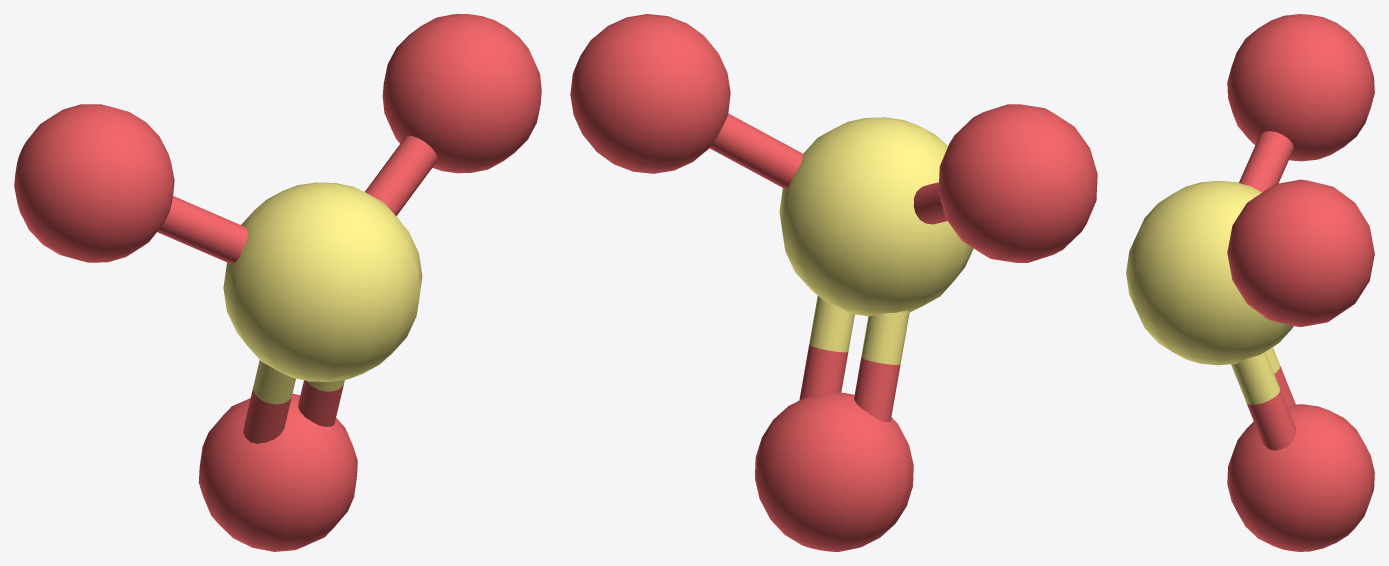
The model's file is 04_Trioxido-de-Azufre.fbx.
3 renders of one model, left to right at view 1: azimuth 30°, elevation 25°; view 2: azimuth 150°, elevation 25°; view 3: azimuth 270°, elevation 25°, orthographic. The views are drawn at different scales.
Visible parts, largest first — view 1: m_trioxidodeA; view 2: m_trioxidodeA; view 3: m_trioxidodeA.
Boxes of the visible parts, <box> form: m_trioxidodeA: <box>14,14,541,551</box>; m_trioxidodeA: <box>570,14,1097,551</box>; m_trioxidodeA: <box>1126,14,1374,551</box>.
Size of the model in its own units: 269 by 525 by 582.
